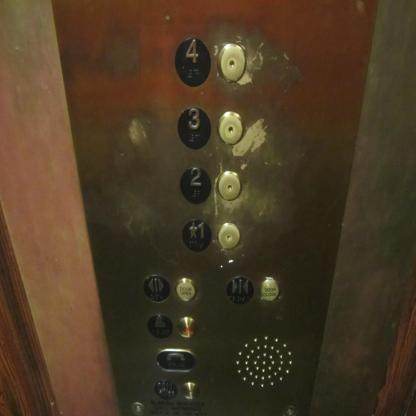2: (178, 166, 212, 204)
3: (176, 106, 211, 150)
4: (174, 36, 212, 88)
alarm: (146, 314, 173, 340)
call: (156, 348, 196, 372)
close: (225, 275, 254, 305)
empty: (218, 42, 247, 82), (217, 110, 244, 146), (215, 169, 243, 202), (216, 221, 240, 250), (182, 382, 199, 399)
open: (142, 275, 170, 302)
s1: (182, 219, 212, 252)
text_CALL CANCEL: (154, 380, 177, 399)
text_DOOR CLOSE: (260, 278, 280, 302)
text_DOOR OPEN: (174, 278, 197, 301)
unknown: (176, 316, 197, 338)
